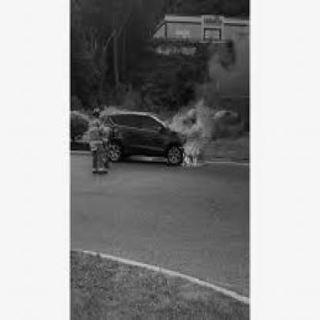Fire: (146, 96, 226, 176)
